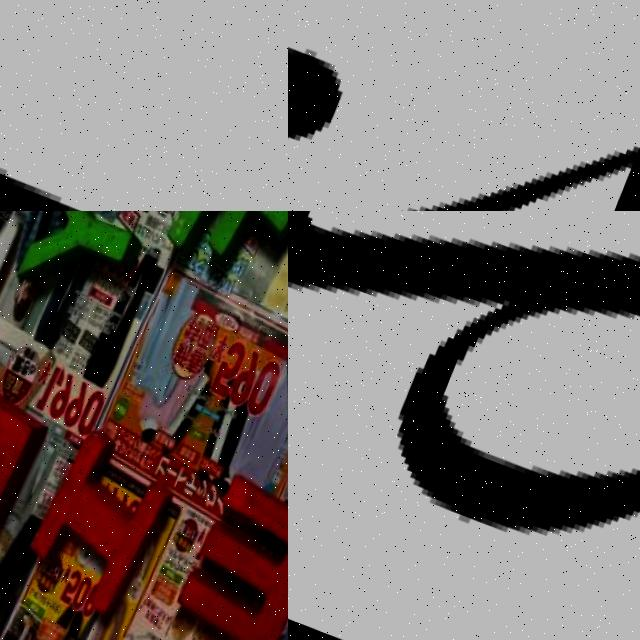2: (288, 0, 640, 211)
B: (288, 211, 640, 532)
E: (0, 366, 57, 556)
F: (162, 211, 288, 284)
I: (23, 422, 185, 617)
W: (173, 470, 288, 640)
Y: (0, 0, 288, 211), (14, 211, 155, 315)
